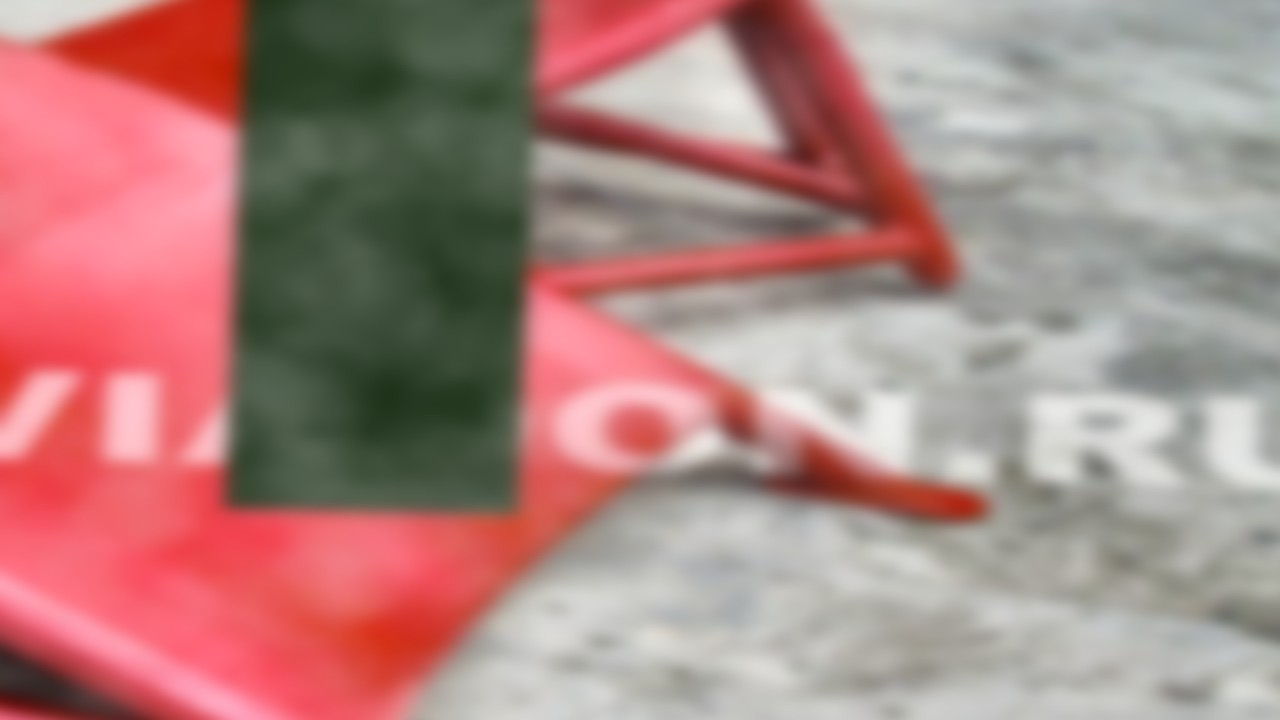chock: (0, 0, 1010, 720), (26, 0, 999, 291)
